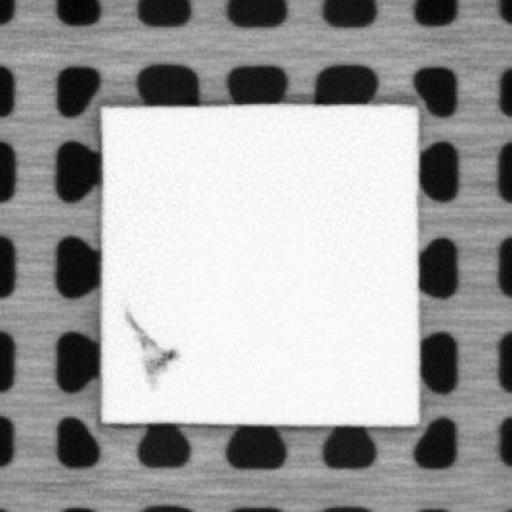DIE_INK: (120, 305, 178, 393)
